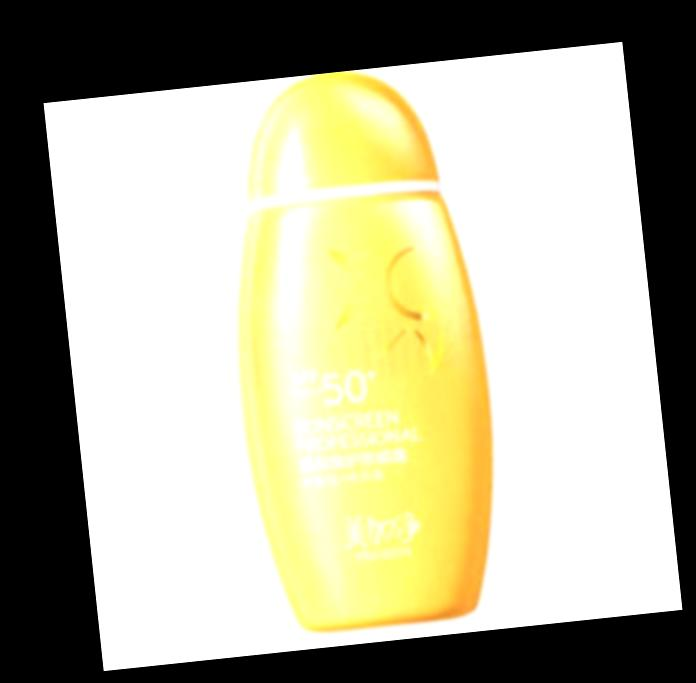cosmetic: (204, 60, 511, 641)
